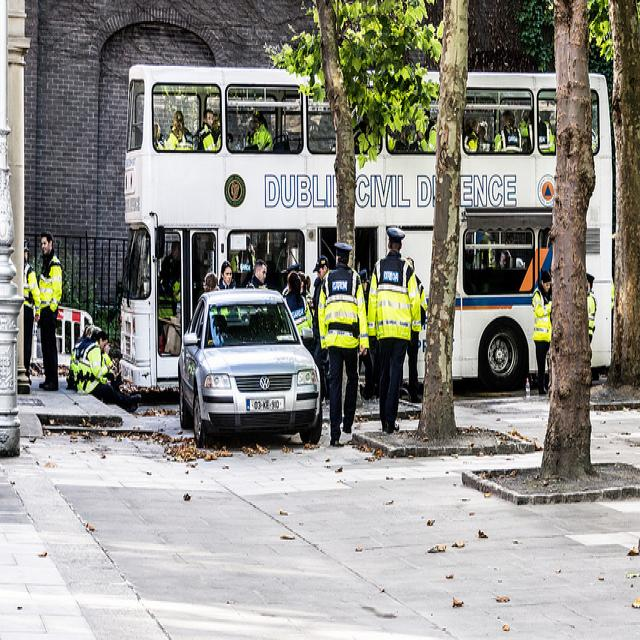Vehicle: (121, 63, 613, 396), (174, 294, 320, 446)
